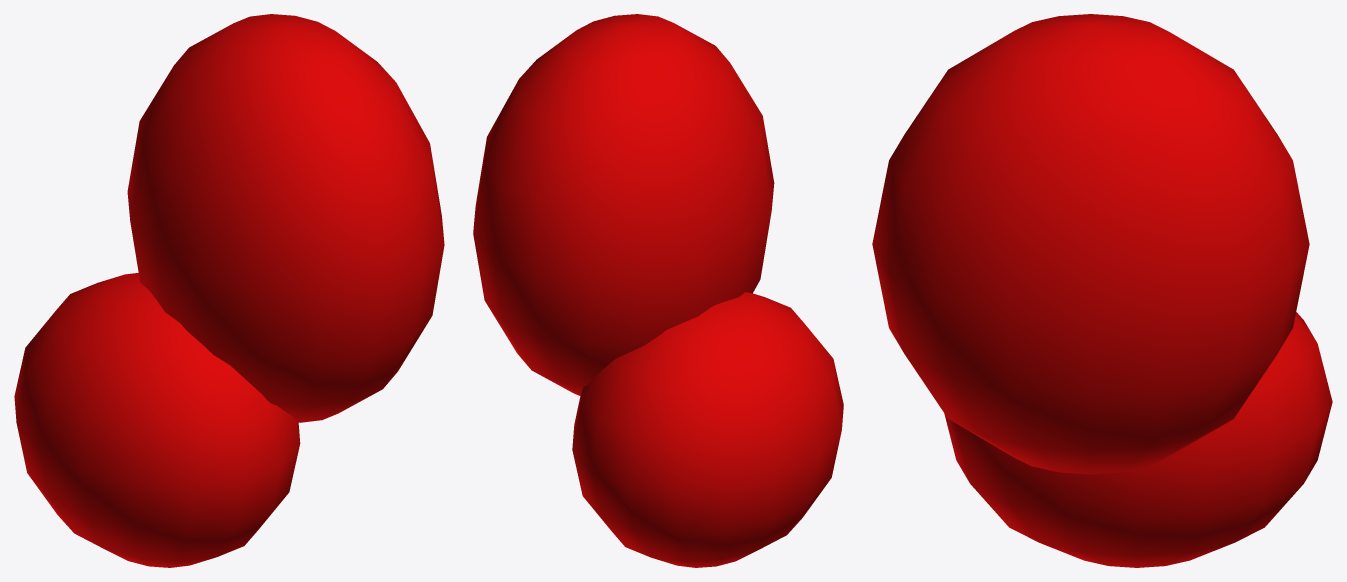
Rendered from hair-gap-fill-v1.glb.
3 views of the same model, side by side, from view 1: azimuth 30°, elevation 25°; view 2: azimuth 150°, elevation 25°; view 3: azimuth 270°, elevation 25° (orthographic). The views are drawn at different scales.
Parts seen in each view (by area): view 1: HairGapFill.L.Upper.Runtime, HairGapFill.L.Lower.Runtime; view 2: HairGapFill.L.Upper.Runtime, HairGapFill.L.Lower.Runtime; view 3: HairGapFill.L.Upper.Runtime, HairGapFill.L.Lower.Runtime.
Boxes of the visible parts, x1,y1,x2,y2 form: HairGapFill.L.Upper.Runtime: (127,14,444,422); HairGapFill.L.Lower.Runtime: (14,273,300,567); HairGapFill.L.Upper.Runtime: (473,14,774,395); HairGapFill.L.Lower.Runtime: (572,292,843,567); HairGapFill.L.Upper.Runtime: (872,14,1309,474); HairGapFill.L.Lower.Runtime: (944,312,1332,567).
Bounding box in the file's own units: 0.206 × 0.283 × 0.2.
